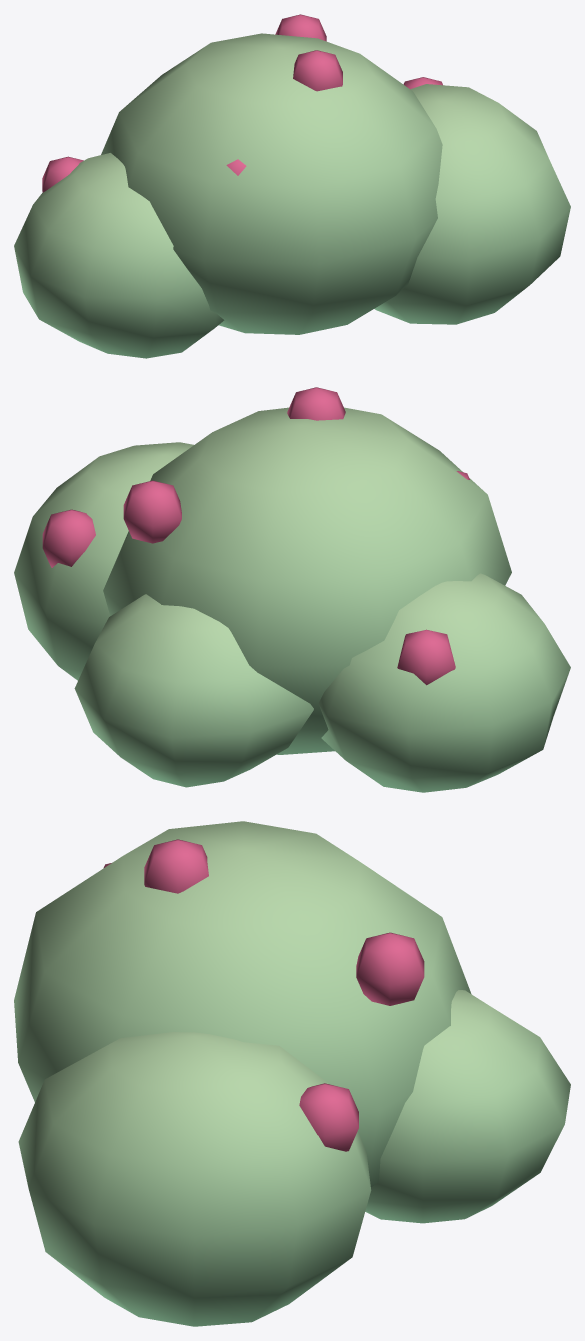
File: bush.glb
3 views of the same model, one above another, from view 1: azimuth 30°, elevation 25°; view 2: azimuth 150°, elevation 25°; view 3: azimuth 270°, elevation 25° (orthographic). The views are drawn at different scales.
Visible parts, largest first — view 1: Body; view 2: Body; view 3: Body.
Part boxes in pixels (x1,y1,x2,y2): Body: [14, 14, 570, 358]; Body: [14, 387, 570, 792]; Body: [14, 821, 570, 1326].
Bounding box in the file's own units: 4.53 × 2.61 × 3.41.
